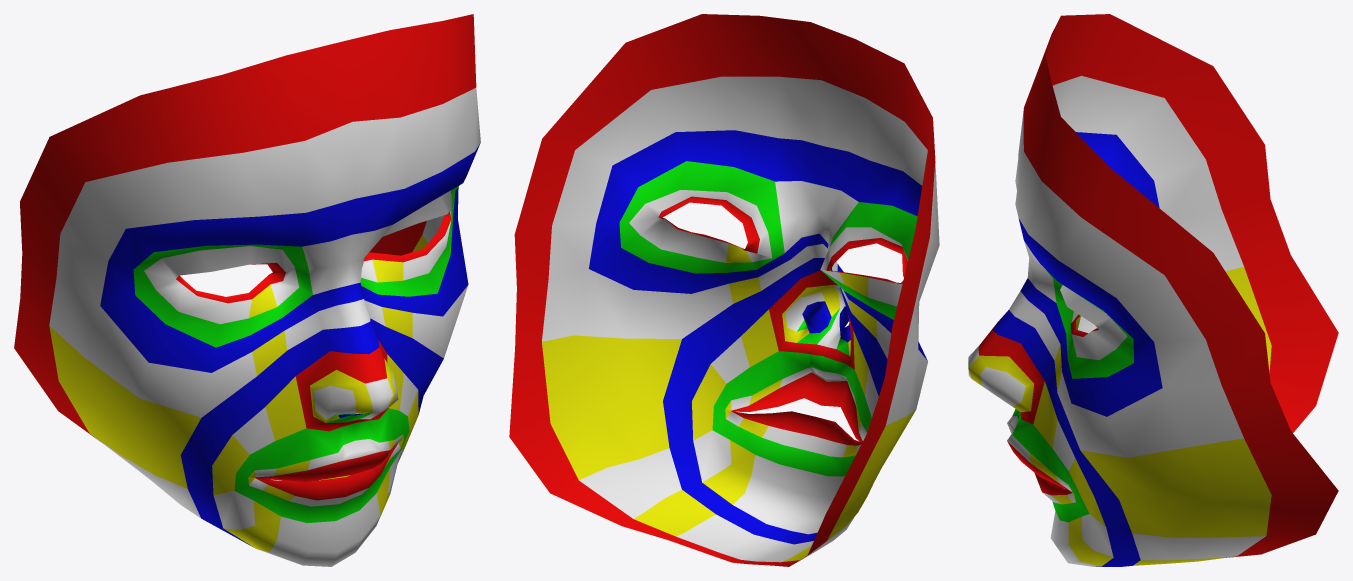
File: Head-topo.fbx
3 renders of one model, left to right at view 1: azimuth 30°, elevation 25°; view 2: azimuth 150°, elevation 25°; view 3: azimuth 270°, elevation 25°, orthographic. The views are drawn at different scales.
Visible parts, largest first — view 1: Eve; view 2: Eve; view 3: Eve.
Boxes of the visible parts, x1,y1,x2,y2 form: Eve: (14,14,480,566); Eve: (509,14,939,566); Eve: (968,14,1338,566).
Bounding box in the file's own units: 419 × 525 × 348.
